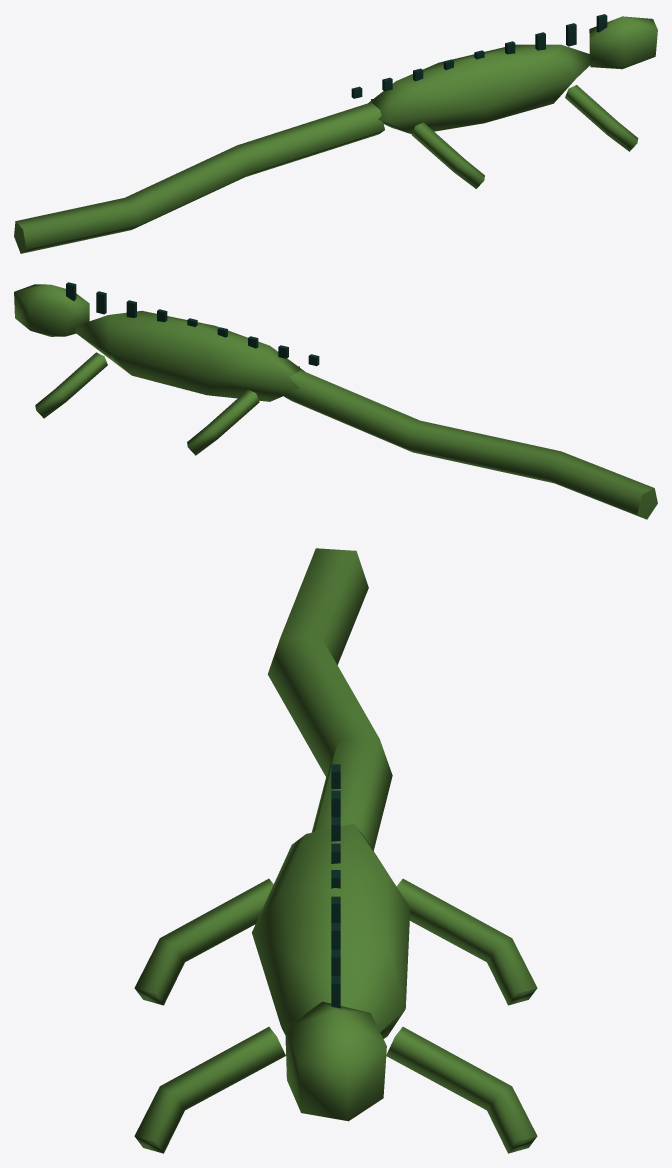
File: IguanaMIA.fbx
3 renders of one model, top to bottom at view 1: azimuth 30°, elevation 25°; view 2: azimuth 150°, elevation 25°; view 3: azimuth 270°, elevation 25°, orthographic. The views are drawn at different scales.
Parts seen in each view (by area): view 1: IguanaMIA; view 2: IguanaMIA; view 3: IguanaMIA.
Part boxes in pixels (<box>): IguanaMIA: <box>14,14,657,253</box>; IguanaMIA: <box>14,282,657,519</box>; IguanaMIA: <box>134,548,537,1153</box>.
Size of the model in its own units: 1.25 by 0.18 by 0.3452.
